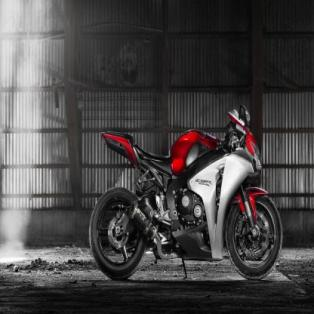Motocicleta: (86, 103, 286, 282)
